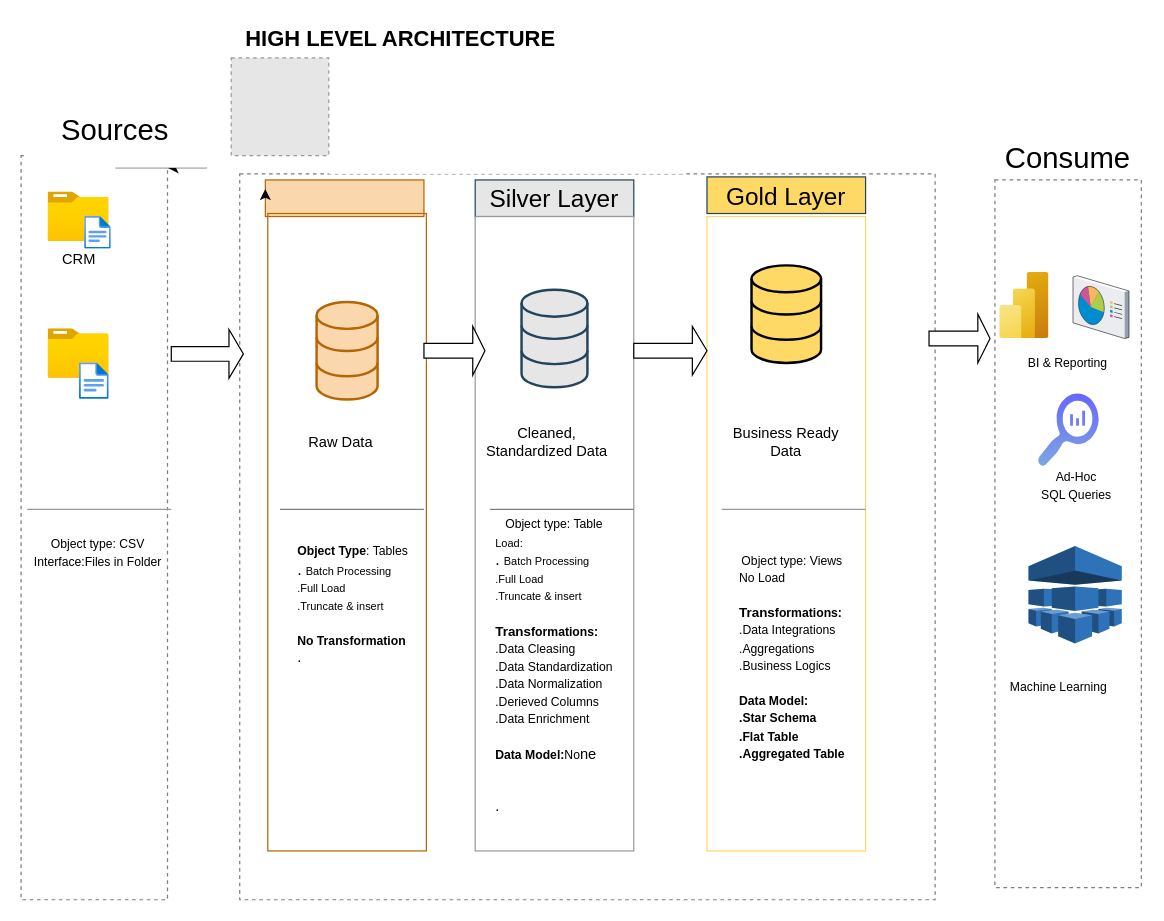
This 1164x921 diagram has some shape labels left out. Grey dashed boxes stand in for pictures. The shapes that lost their labels are listed below. From the top down, each one's box as (x1, y1, x2, y2) in pixels, then its label:
(328, 100, 682, 173): Data Warehouse
(264, 179, 424, 217): Bronze Layer
(79, 362, 109, 399): ERP
